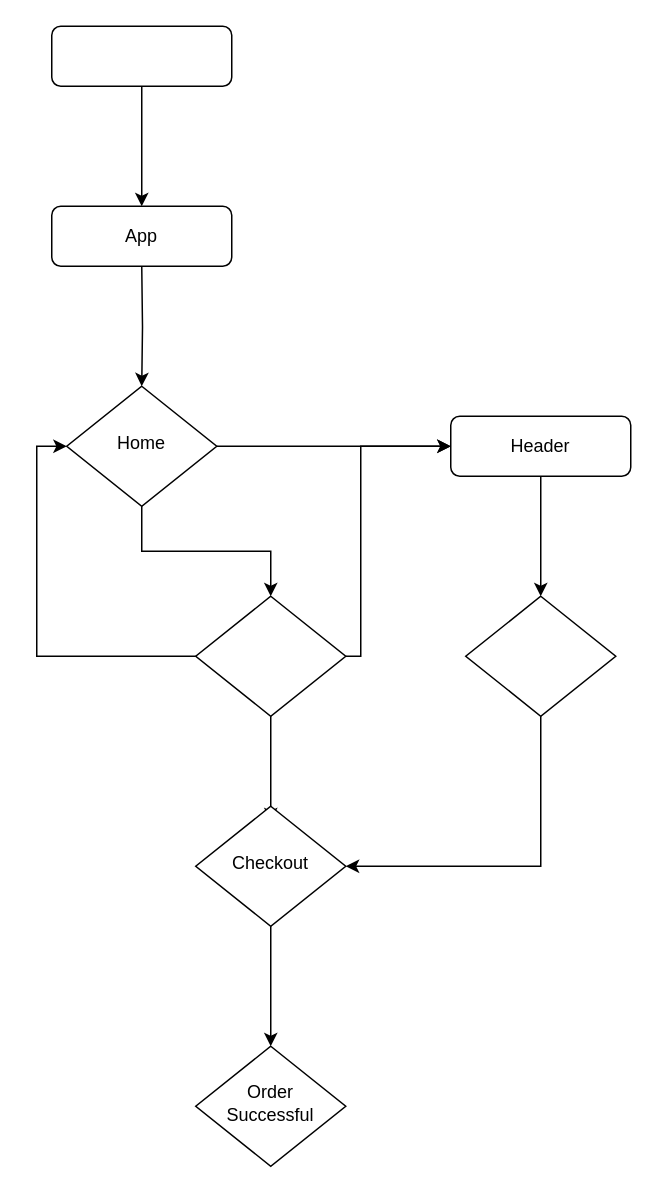
Image size: 657x1193. Some labels were removed from this diagram. The shapes that lost their labels are listed below. From the top down, each one's box as (x1, y1, x2, y2) in pixels, then its label:
(50, 25, 232, 86): Index
(194, 595, 346, 716): Shop
(464, 595, 616, 716): Basket
